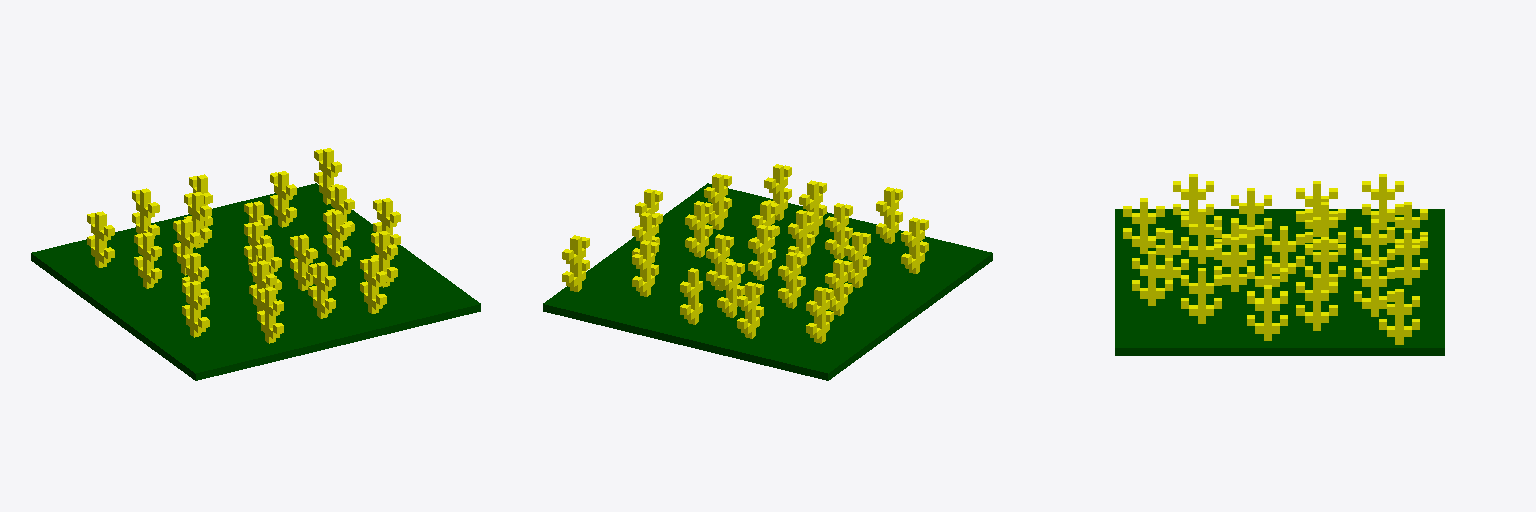
The picture shows the model from 3 angles: view 1: azimuth 30°, elevation 25°; view 2: azimuth 150°, elevation 25°; view 3: azimuth 270°, elevation 25°; orthographic projection.
Visible parts, largest first — view 1: object 1; view 2: object 1; view 3: object 1.
Boxes of the visible parts, x1,y1,x2,y2 form: object 1: [31, 148, 480, 380]; object 1: [543, 164, 992, 380]; object 1: [1115, 174, 1444, 355].
Size of the model in its own units: 4 by 0.8 by 4.
1 materials, 1 textured.